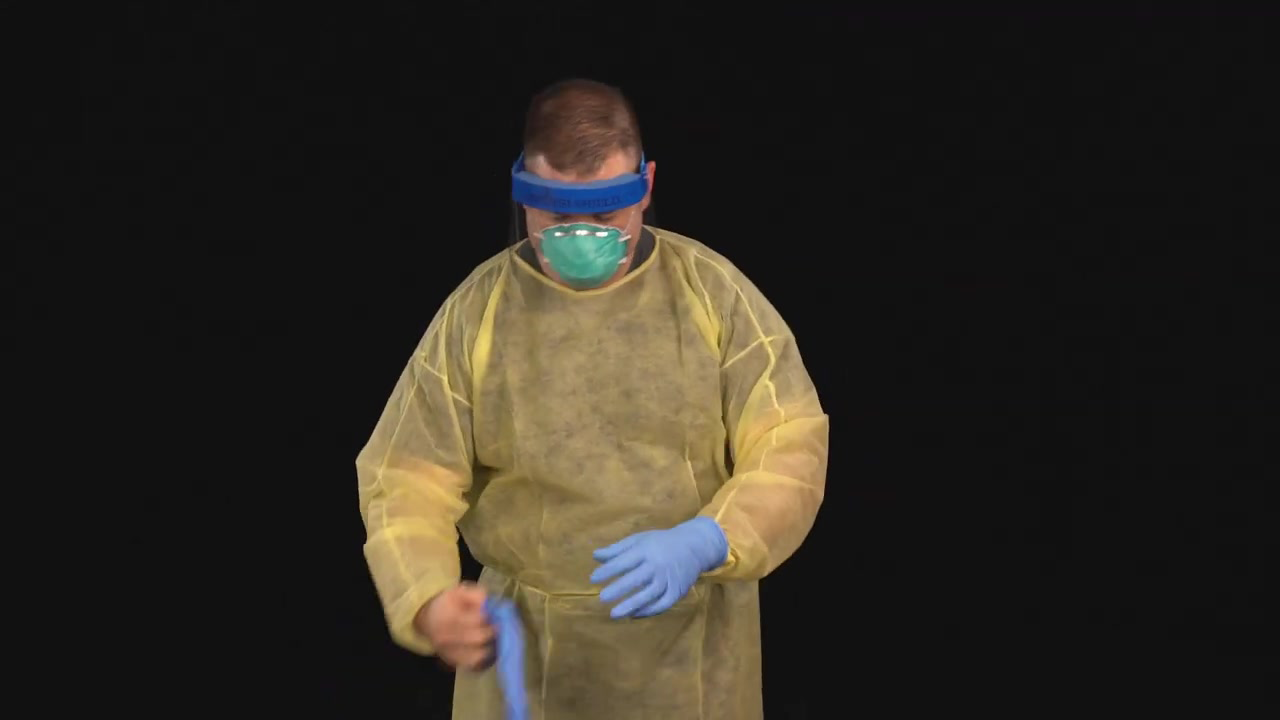Coverall: (398, 238, 806, 711)
Face_Shield: (500, 147, 657, 295)
Gloves: (578, 526, 729, 601)
with_mask: (534, 199, 626, 285)
